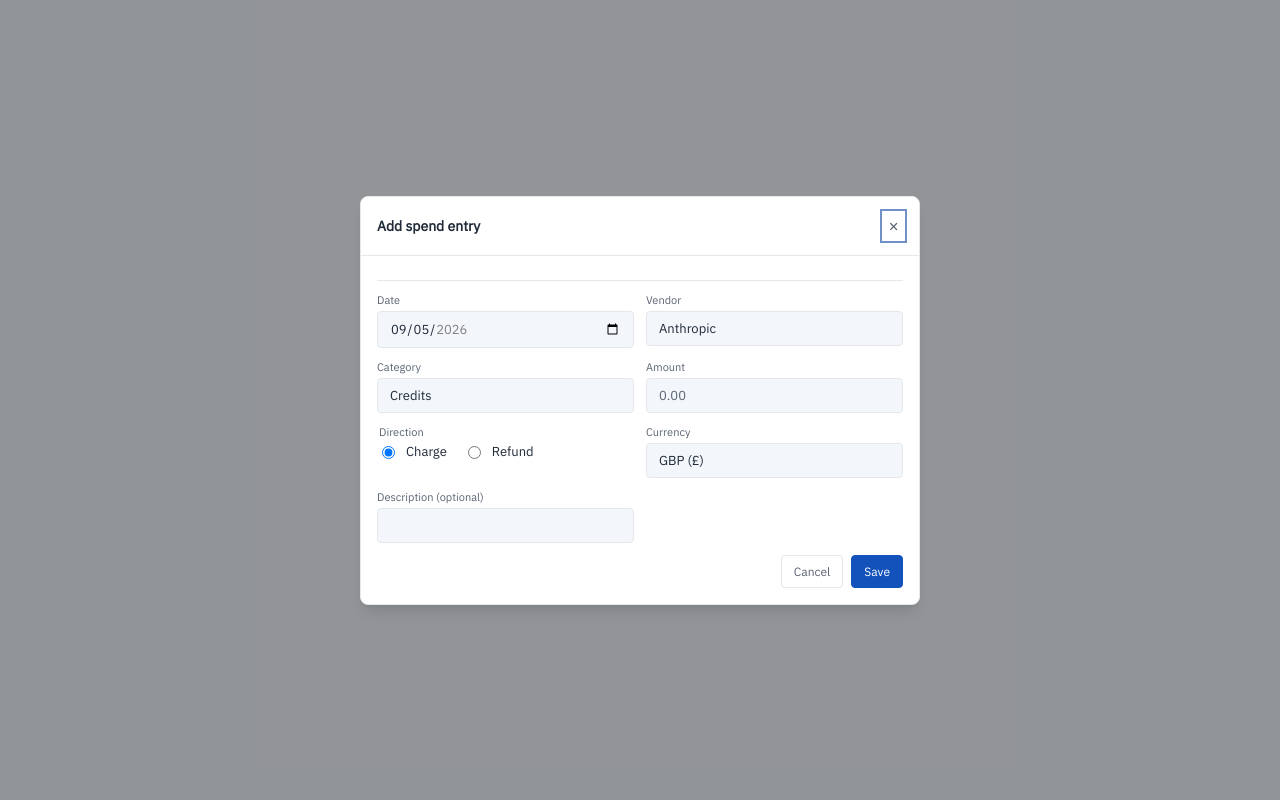
Scenario: SpendEntryModal › refuses a zero amount in either direction
Type "0" into the number field labelled "Amount". click: coordinates (774, 395)
box: top-left (646, 378), bottom-right (903, 412)
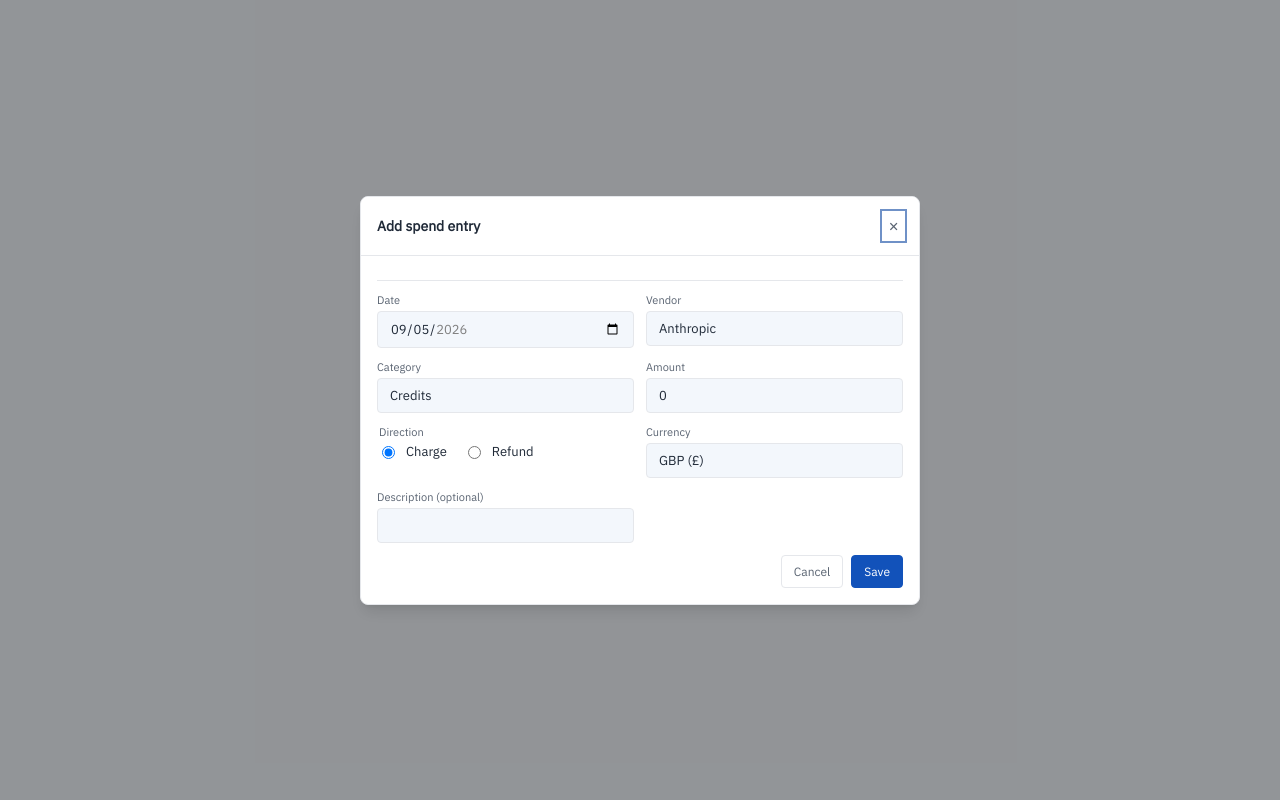
Click the radio button labelled "Refund". click: coordinates (474, 452)
box: top-left (468, 446), bottom-right (481, 459)
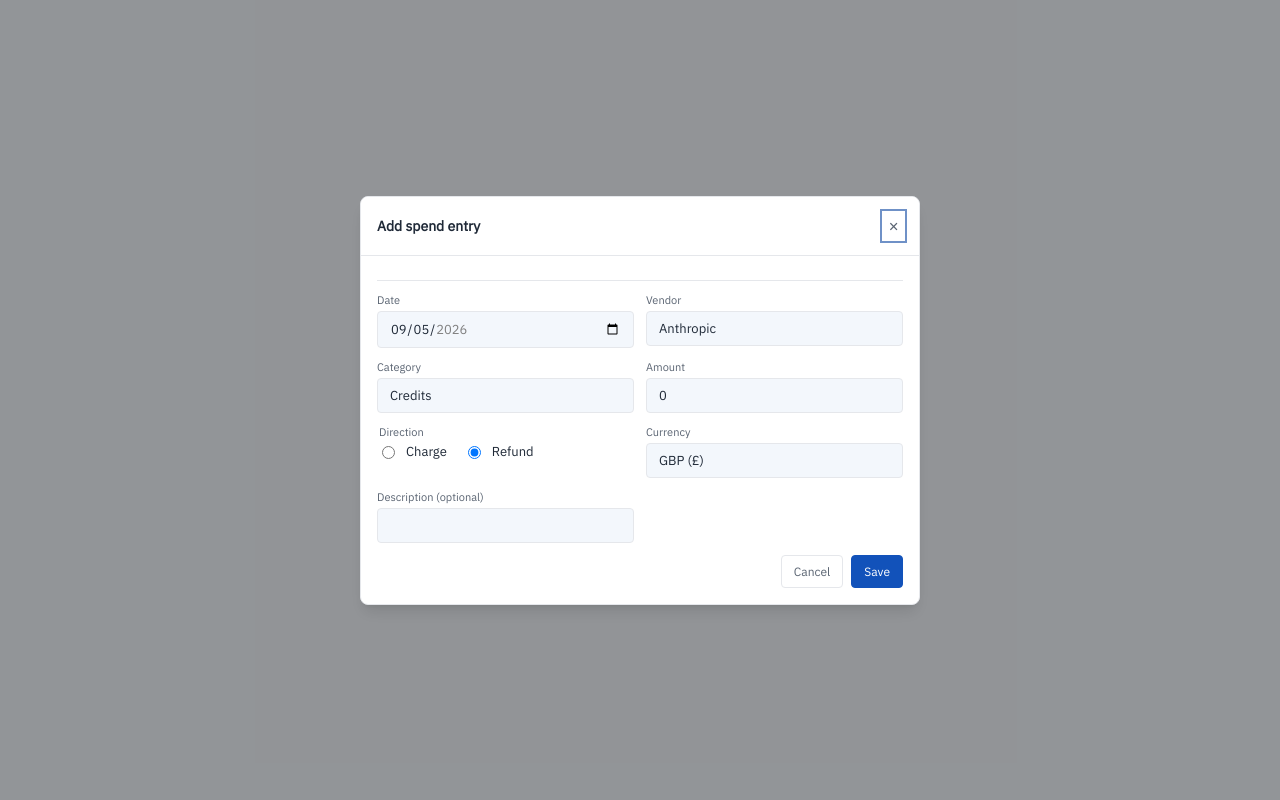
Click the button "Save". click: coordinates (877, 571)
box: top-left (851, 554), bottom-right (903, 588)
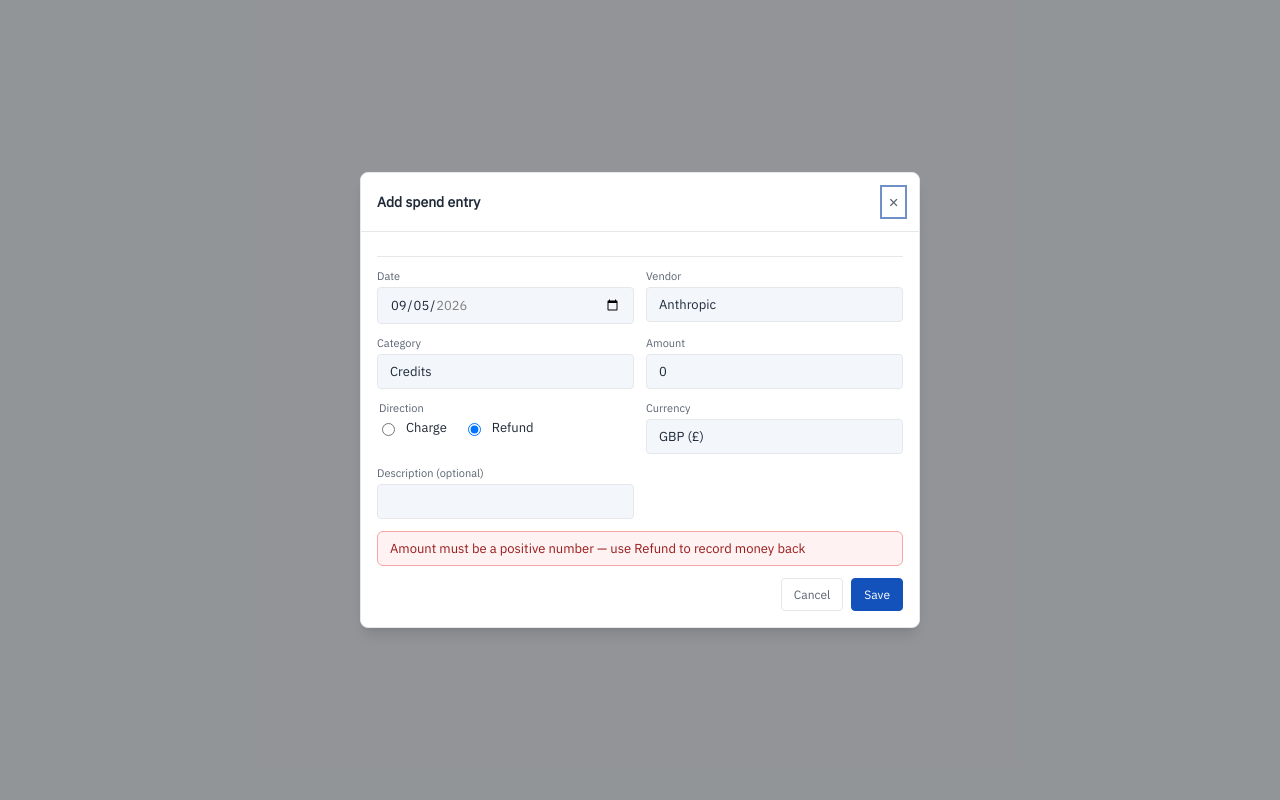
Check: the message "Amount must be a positive number — use Refund to record money back" is shown, box top-left (377, 531), bottom-right (903, 566)
